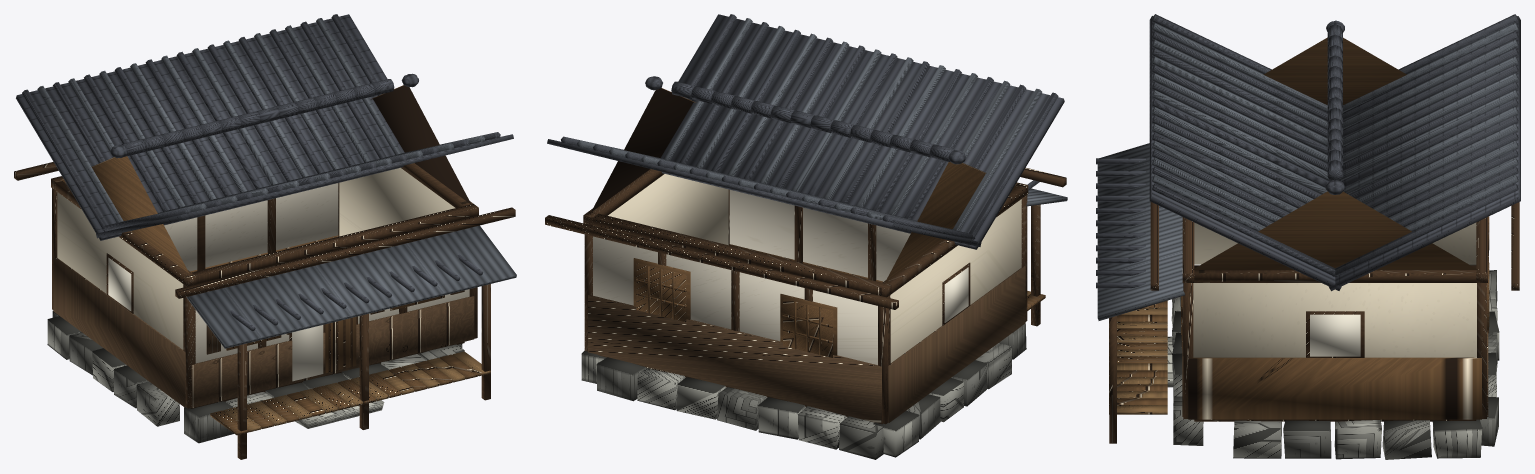
Rendered from house_b.glb.
3 renders of one model, left to right at view 1: azimuth 30°, elevation 25°; view 2: azimuth 150°, elevation 25°; view 3: azimuth 270°, elevation 25°, orthographic. The views are drawn at different scales.
Visible parts, largest first — view 1: geometry_11, geometry_10, geometry_2, geometry_5, geometry_6, geometry_4, geometry_3, geometry_1, geometry_0, geometry_9, geometry_7, geometry_8; view 2: geometry_11, geometry_5, geometry_3, geometry_2, geometry_6, geometry_10, geometry_4, geometry_1, geometry_0, geometry_7; view 3: geometry_11, geometry_10, geometry_6, geometry_4, geometry_2, geometry_1, geometry_0, geometry_9, geometry_7.
Part boxes in pixels (x1,y1,x2,y2): geometry_11: [16, 14, 513, 330]; geometry_10: [37, 18, 516, 348]; geometry_2: [14, 162, 515, 459]; geometry_5: [53, 256, 474, 407]; geometry_6: [59, 85, 477, 435]; geometry_4: [57, 168, 455, 349]; geometry_3: [164, 183, 469, 363]; geometry_1: [47, 316, 462, 426]; geometry_0: [52, 311, 464, 443]; geometry_9: [223, 351, 490, 432]; geometry_7: [108, 257, 323, 381]; geometry_8: [295, 400, 384, 428]; geometry_11: [547, 14, 1064, 249]; geometry_5: [588, 266, 1025, 423]; geometry_3: [593, 190, 910, 364]; geometry_2: [545, 168, 1066, 424]; geometry_6: [591, 88, 1045, 357]; geometry_10: [577, 18, 1067, 231]; geometry_4: [608, 174, 1021, 362]; geometry_1: [581, 343, 1011, 457]; geometry_0: [596, 323, 1026, 459]; geometry_7: [944, 267, 968, 322]; geometry_11: [1096, 14, 1520, 291]; geometry_10: [1097, 22, 1518, 320]; geometry_6: [1109, 37, 1489, 419]; geometry_4: [1193, 222, 1476, 357]; geometry_2: [1109, 202, 1519, 443]; geometry_1: [1171, 264, 1499, 459]; geometry_0: [1172, 270, 1498, 459]; geometry_9: [1109, 300, 1167, 414]; geometry_7: [1310, 314, 1360, 356].
Bounding box in the file's own units: 7.4 × 5.18 × 7.23.
12 materials, 11 textured.
